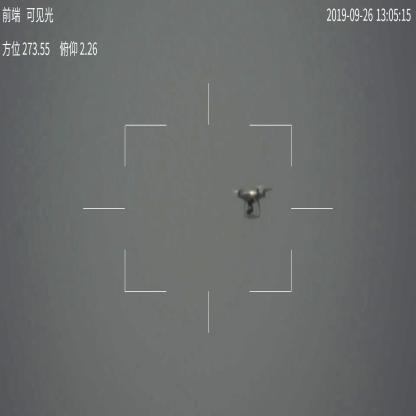uav: (233, 184, 272, 219)
